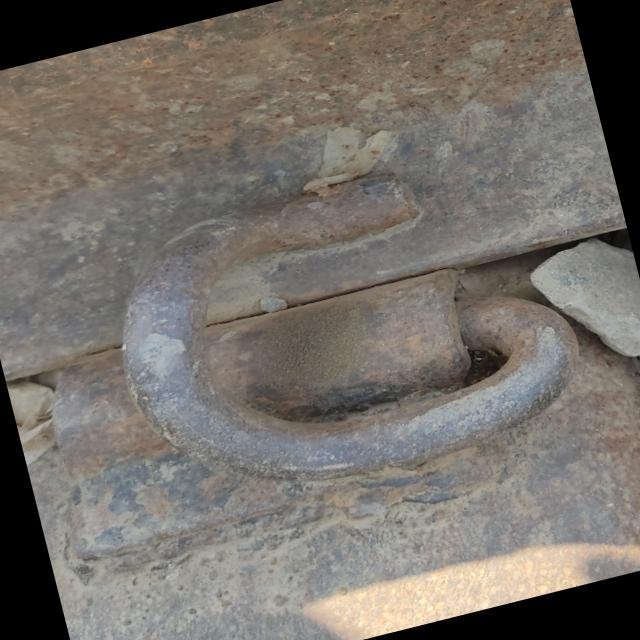track_bolt: (83, 128, 603, 532)
